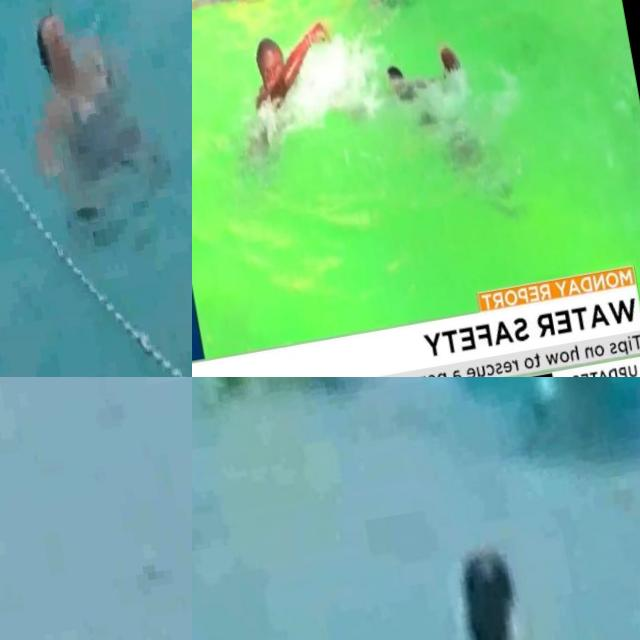drowning: (0, 0, 178, 257), (429, 528, 591, 640), (372, 34, 488, 174)
swimming: (224, 18, 351, 188), (192, 0, 275, 41), (349, 0, 434, 25)
